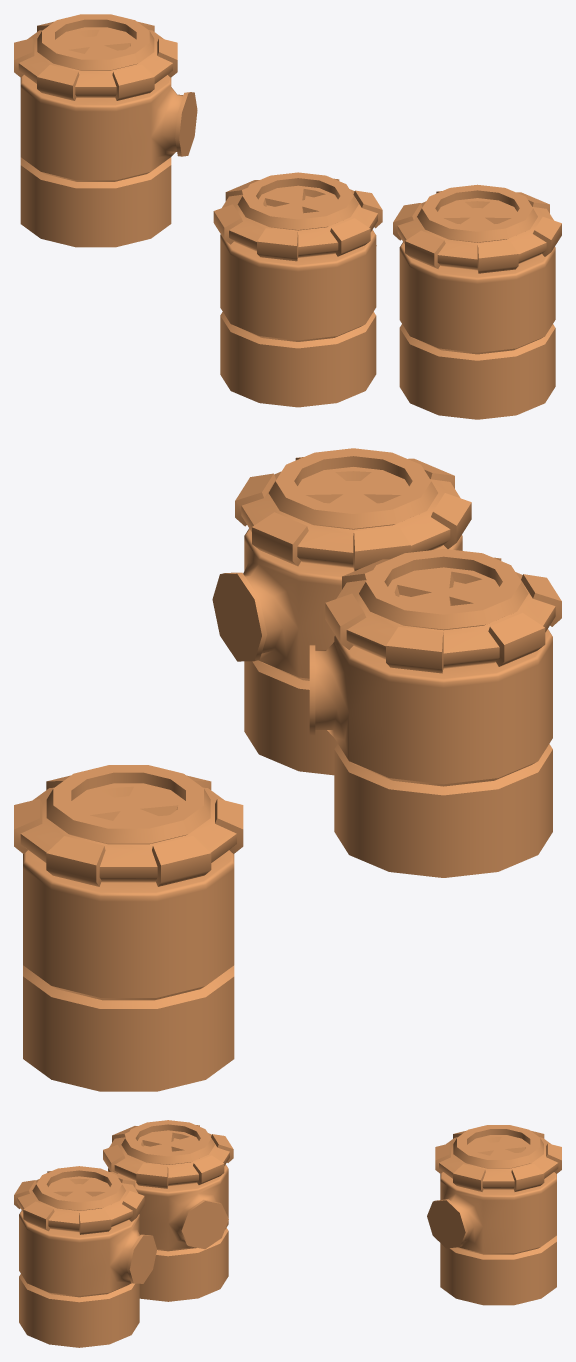
The model's file is cannisters_01.fbx.
3 renders of one model, top to bottom at view 1: azimuth 30°, elevation 25°; view 2: azimuth 150°, elevation 25°; view 3: azimuth 270°, elevation 25°, orthographic. The views are drawn at different scales.
Parts seen in each view (by area): view 1: cannisters_01; view 2: cannisters_01; view 3: cannisters_01.
Boxes of the visible parts, bbox=[...] form: cannisters_01: bbox=[14, 14, 561, 419]; cannisters_01: bbox=[14, 448, 561, 1091]; cannisters_01: bbox=[14, 1120, 561, 1347].
Size of the model in its own units: 3.97 by 2.53 by 9.08.
